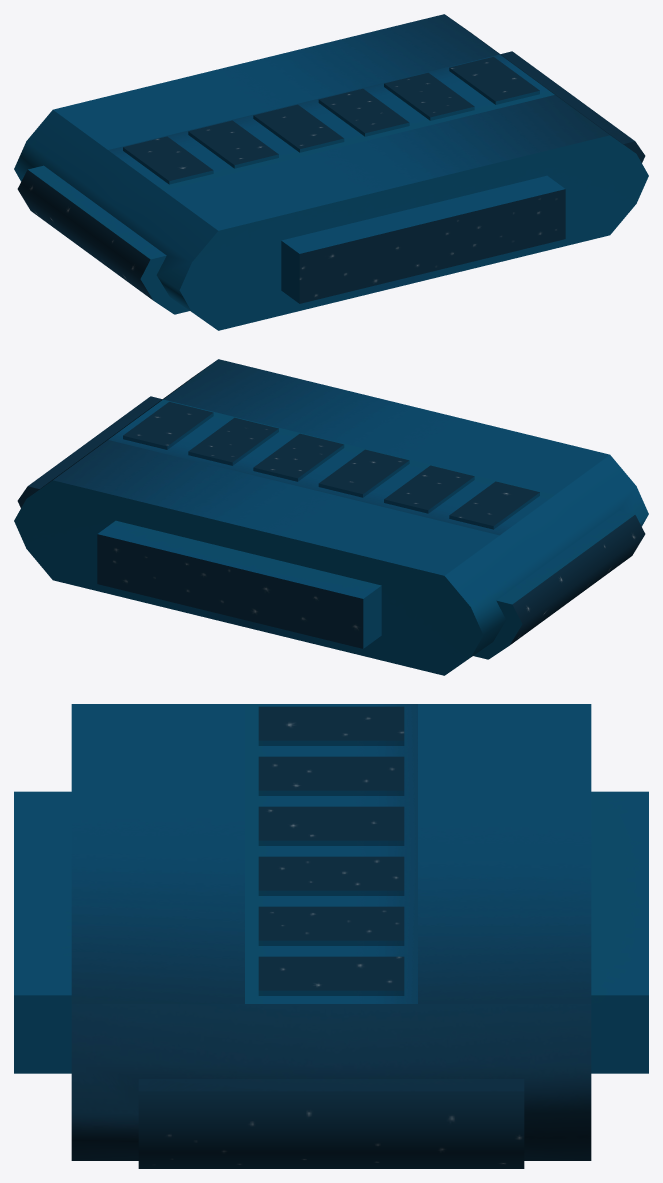
Rendered from room.fbx.
3 views of the same model, one above another, from view 1: azimuth 30°, elevation 25°; view 2: azimuth 150°, elevation 25°; view 3: azimuth 270°, elevation 25° (orthographic). The views are drawn at different scales.
Visible parts, largest first — view 1: Room; view 2: Room; view 3: Room.
Part boxes in pixels (x1=…): Room: x1=14, y1=14, x2=648, y2=330; Room: x1=14, y1=359, x2=648, y2=675; Room: x1=14, y1=704, x2=648, y2=1168.
Bounding box in the file's own units: 46.94 × 9.2 × 32.57.
Materials: 1 (1 with a texture image).
